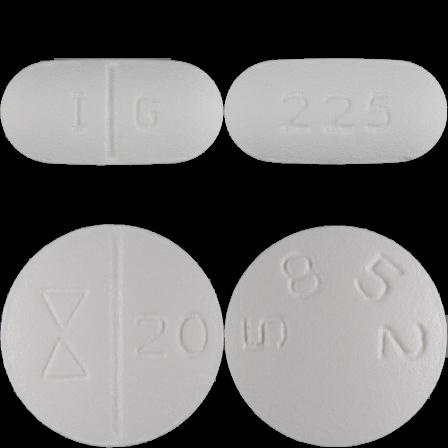51655-142: (0, 0, 224, 224)
